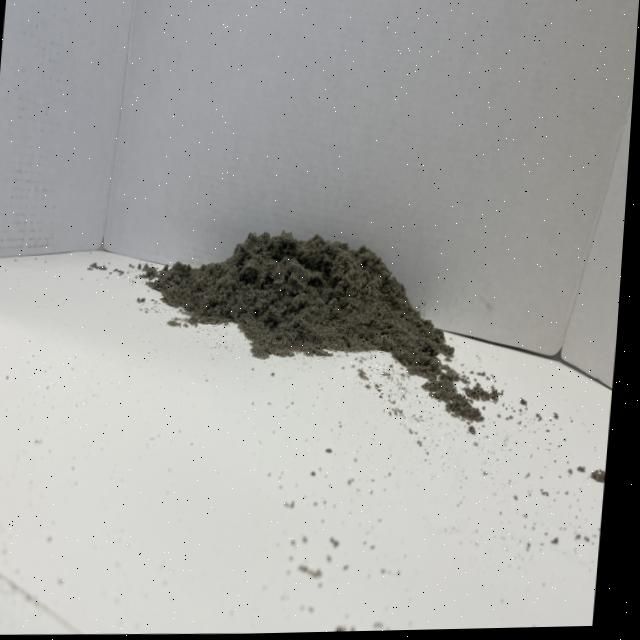sand: (153, 214, 473, 394)
